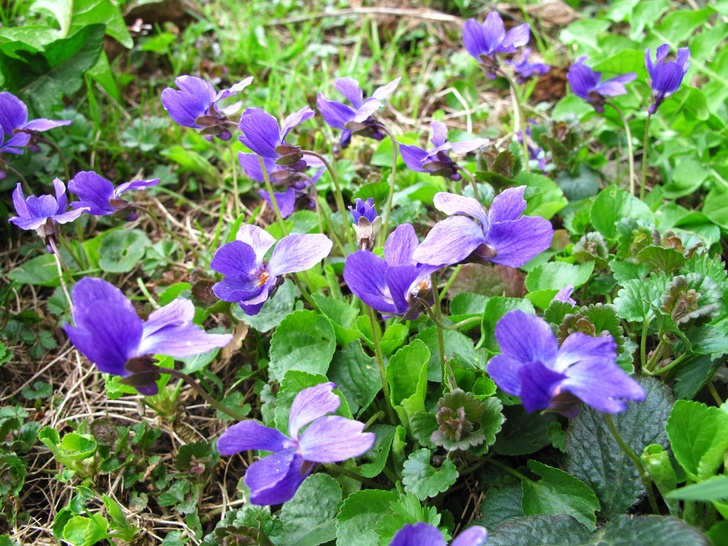violet: (58, 272, 229, 406), (210, 373, 380, 500), (480, 303, 646, 421), (203, 217, 333, 310), (427, 185, 557, 278), (338, 227, 435, 325), (150, 71, 237, 144), (62, 168, 163, 227), (228, 101, 313, 169), (450, 10, 528, 79), (550, 60, 634, 121), (637, 38, 695, 117), (8, 188, 88, 239), (381, 517, 495, 546)
